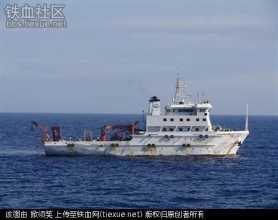otherboat: (39, 76, 257, 158)
